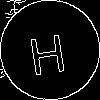H: (25, 25, 68, 76)
